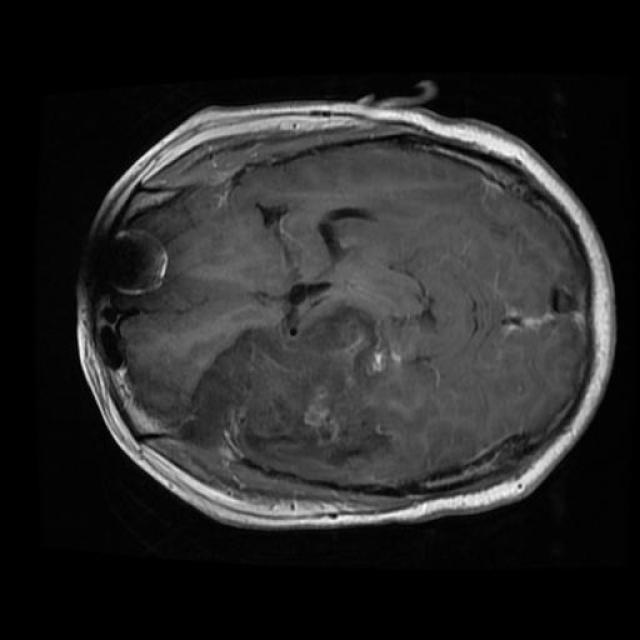Glioma: (192, 305, 396, 464)
